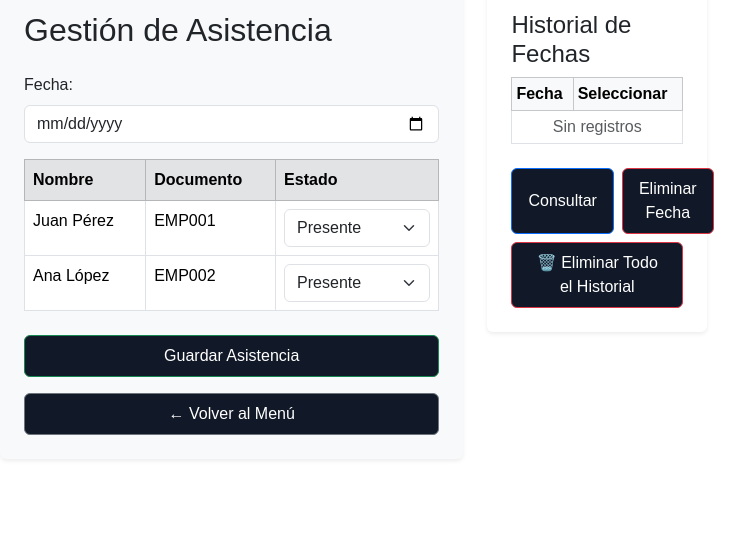
Test case: GestionAsistencia › guarda asistencia y muestra mensaje de éxito
expect the text "Juan Pérez" is shown: met, box [24,201,146,256]
In the date field labelled "Fecha:": (232, 124) [24,105,439,143], type "2025-09-18"
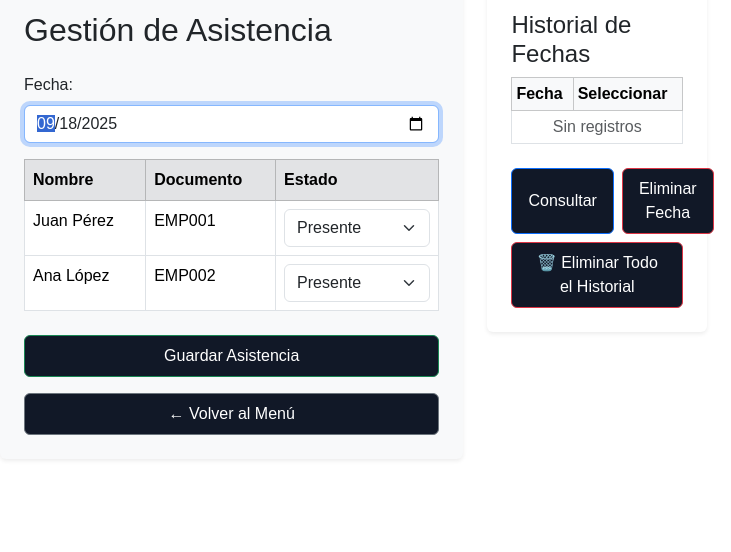
Click the button "Guardar Asistencia": (232, 356) [24,335,439,377]
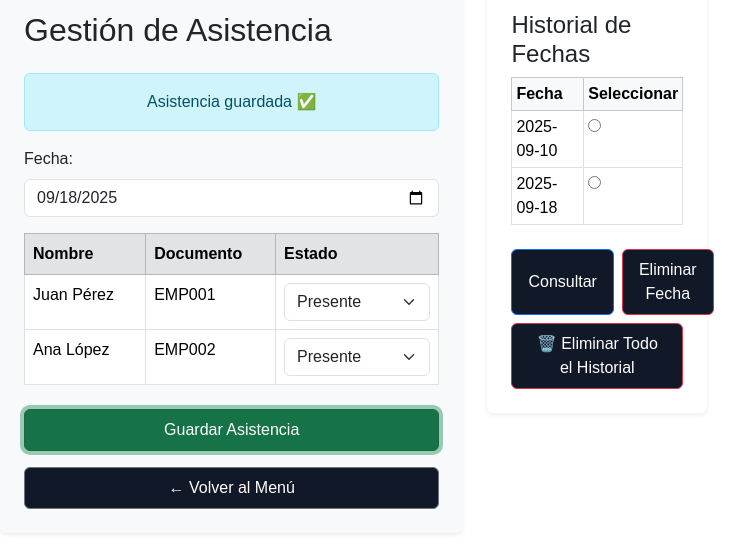
expect the text "Asistencia guardada ✅" is shown: met, box [24,73,439,131]
